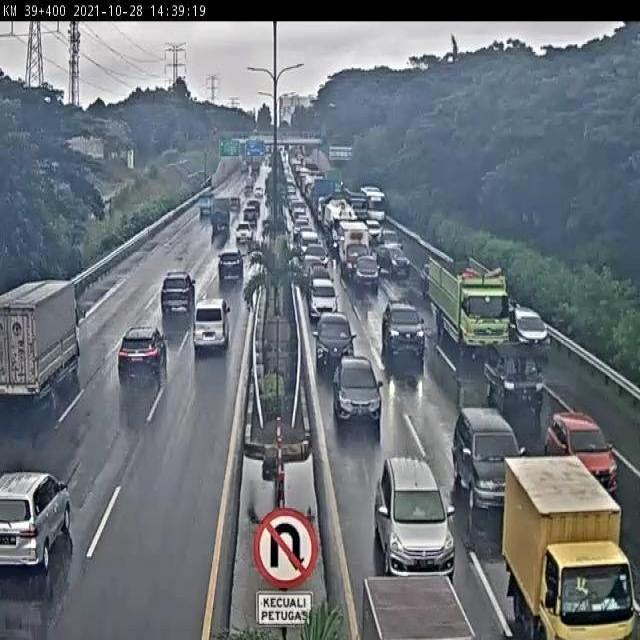car: (377, 456, 455, 575), (453, 405, 527, 508), (0, 471, 74, 569), (546, 412, 616, 495), (331, 358, 379, 418), (117, 327, 165, 377), (508, 301, 549, 359), (380, 299, 425, 349), (315, 306, 352, 362), (192, 300, 229, 348), (161, 272, 196, 311), (308, 276, 337, 321), (216, 247, 245, 280), (379, 246, 410, 274), (354, 255, 379, 285), (303, 253, 324, 280), (307, 264, 331, 285), (305, 244, 328, 265), (233, 223, 252, 245)
mid truck: (0, 281, 78, 400), (431, 256, 511, 353)
small truck: (507, 450, 635, 640), (478, 335, 540, 401), (340, 224, 370, 271)
